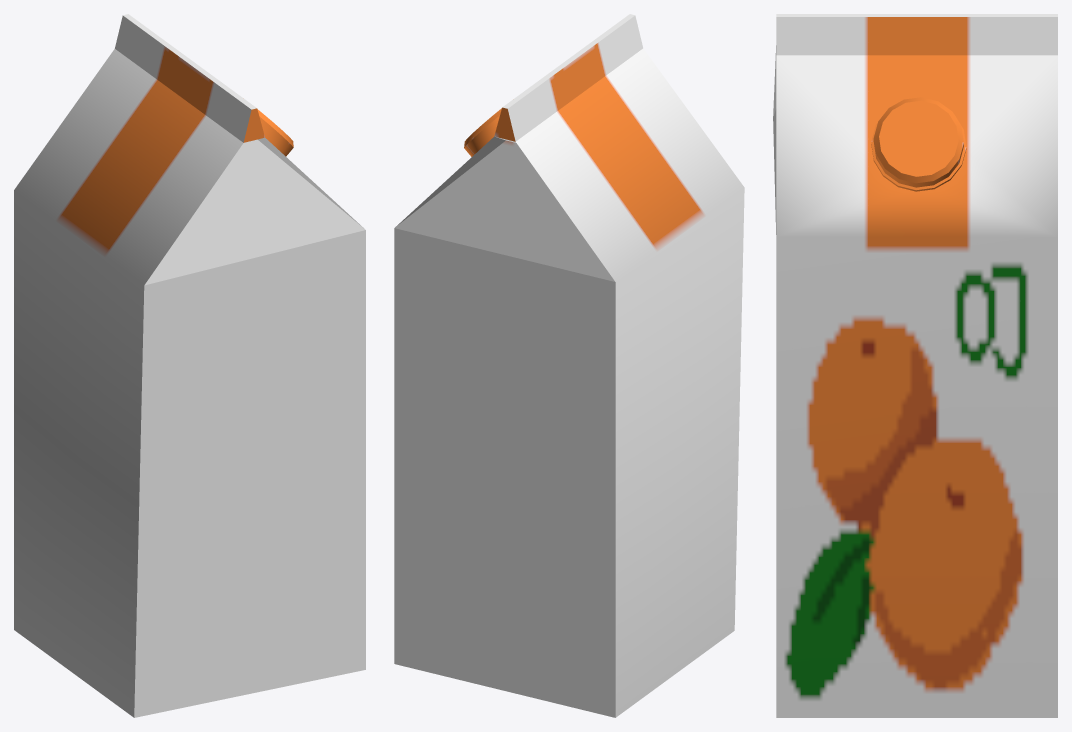
3 views of the same model, side by side, from view 1: azimuth 30°, elevation 25°; view 2: azimuth 150°, elevation 25°; view 3: azimuth 270°, elevation 25° (orthographic). The views are drawn at different scales.
Parts seen in each view (by area): view 1: Carton_wCap; view 2: Carton_wCap; view 3: Carton_wCap.
Boxes of the visible parts, left/top/right/bottom form: Carton_wCap: left=14, top=14, right=365, bottom=717; Carton_wCap: left=394, top=14, right=744, bottom=717; Carton_wCap: left=773, top=14, right=1057, bottom=717.
Size of the model in its own units: 2.2 by 5.53 by 2.22.
